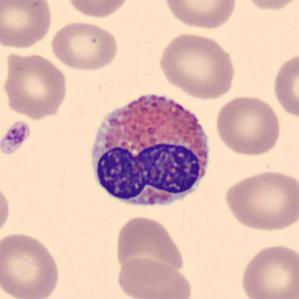Eosinophil: (80, 82, 217, 216)
Platelets: (0, 119, 32, 156)
RBC: (156, 30, 238, 100), (221, 167, 298, 233), (1, 49, 69, 120), (113, 213, 186, 279), (212, 93, 282, 157), (0, 230, 62, 299), (48, 19, 121, 73), (113, 254, 194, 299), (237, 241, 298, 299), (0, 0, 55, 50), (161, 0, 239, 30), (270, 50, 299, 120), (63, 0, 132, 20), (237, 0, 299, 13), (0, 180, 13, 240)
